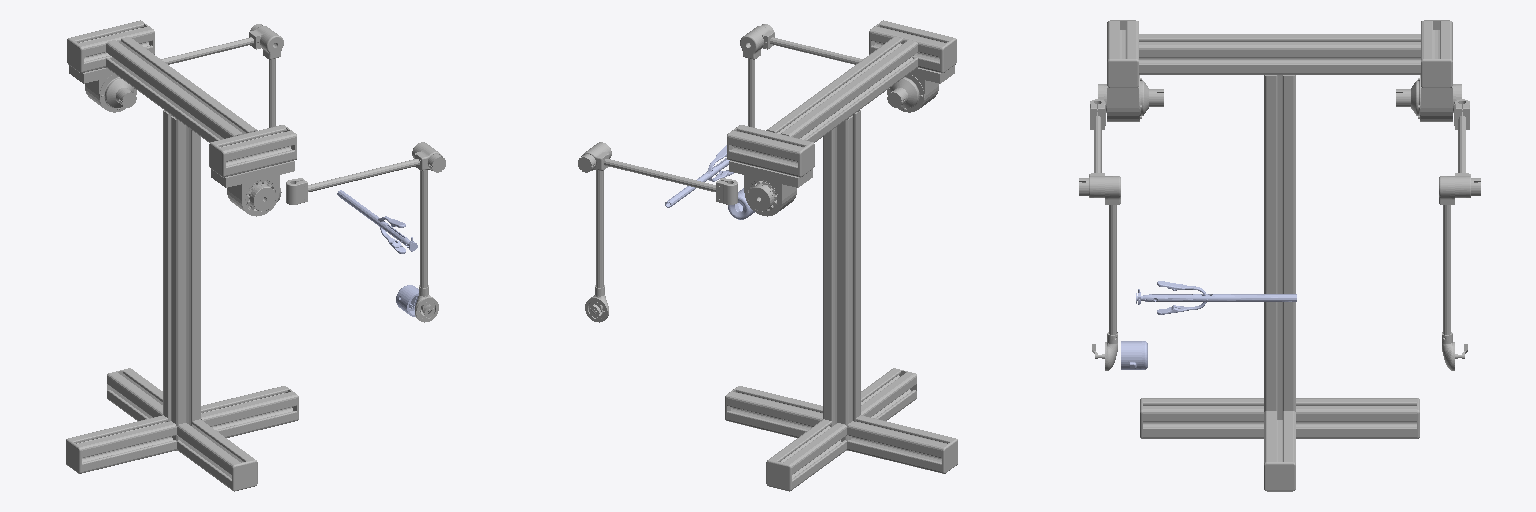
The robot description file, URDF, robot "simple_mtm_v3":
<?xml version="1.0" encoding="utf-8"?>
<!-- This URDF was automatically created by SolidWorks to URDF Exporter! Originally created by Stephen Brawner (brawner@gmail.com) 
     Commit Version: 1.6.0-4-g7f85cfe  Build Version: 1.6.7995.38578
     For more information, please see http://wiki.ros.org/sw_urdf_exporter -->
<robot
  name="simple_mtm_v3">
  <link
    name="base_link">
    <inertial>
      <origin
        xyz="1.88680116792806E-11 -7.89096091530853E-13 0.146649913025819"
        rpy="0 0 0" />
      <mass
        value="1.28910373447466" />
      <inertia
        ixx="0.00787183936947509"
        ixy="-2.38713345596337E-14"
        ixz="-1.5500890991365E-14"
        iyy="0.0062829958134847"
        iyz="-1.08474577856972E-14"
        izz="0.00295338481354163" />
    </inertial>
    <visual>
      <origin
        xyz="0 0 0"
        rpy="0 0 0" />
      <geometry>
        <mesh
          filename="package://simple_mtm_v3/meshes/base_link.STL" />
      </geometry>
      <material
        name="">
        <color
          rgba="0.752941176470588 0.752941176470588 0.752941176470588 1" />
      </material>
    </visual>
    <collision>
      <origin
        xyz="0 0 0"
        rpy="0 0 0" />
      <geometry>
        <mesh
          filename="package://simple_mtm_v3/meshes/base_link.STL" />
      </geometry>
    </collision>
  </link>
  <link
    name="right_J1_link">
    <inertial>
      <origin
        xyz="-0.0272468641090349 -0.00431239962158214 0.0136177788693076"
        rpy="0 0 0" />
      <mass
        value="0.217265269014196" />
      <inertia
        ixx="8.8289658689477E-05"
        ixy="-5.23747831689525E-06"
        ixz="4.84618661160435E-07"
        iyy="9.88337545554211E-05"
        iyz="3.16056040570285E-07"
        izz="0.000161817724585355" />
    </inertial>
    <visual>
      <origin
        xyz="0 0 0"
        rpy="0 0 0" />
      <geometry>
        <mesh
          filename="package://simple_mtm_v3/meshes/right_J1_link.STL" />
      </geometry>
      <material
        name="">
        <color
          rgba="0.752941176470588 0.752941176470588 0.752941176470588 1" />
      </material>
    </visual>
    <collision>
      <origin
        xyz="0 0 0"
        rpy="0 0 0" />
      <geometry>
        <mesh
          filename="package://simple_mtm_v3/meshes/right_J1_link.STL" />
      </geometry>
    </collision>
  </link>
  <joint
    name="right_J1_joint"
    type="fixed">
    <origin
      xyz="0 0.216999999999988 0.284999999999997"
      rpy="-1.57079632679489 0 0" />
    <parent
      link="base_link" />
    <child
      link="right_J1_link" />
    <axis
      xyz="0 0 0" />
  </joint>
  <link
    name="right_J2_link">
    <inertial>
      <origin
        xyz="0.123474393867848 0.0151001355687561 0.0089222337385291"
        rpy="0 0 0" />
      <mass
        value="0.028442603557216" />
      <inertia
        ixx="2.23413747833825E-06"
        ixy="-3.63778375380253E-11"
        ixz="-8.63056316192394E-08"
        iyy="2.11946804960037E-05"
        iyz="1.9508735639919E-13"
        izz="2.18319915210086E-05" />
    </inertial>
    <visual>
      <origin
        xyz="0 0 0"
        rpy="0 0 0" />
      <geometry>
        <mesh
          filename="package://simple_mtm_v3/meshes/right_J2_link.STL" />
      </geometry>
      <material
        name="">
        <color
          rgba="0.752941176470588 0.752941176470588 0.752941176470588 1" />
      </material>
    </visual>
    <collision>
      <origin
        xyz="0 0 0"
        rpy="0 0 0" />
      <geometry>
        <mesh
          filename="package://simple_mtm_v3/meshes/right_J2_link.STL" />
      </geometry>
    </collision>
  </link>
  <joint
    name="right_J2_joint"
    type="fixed">
    <origin
      xyz="0.0349999999999925 0.0150999999999992 0.0200000000000018"
      rpy="3.14159265358979 0 0" />
    <parent
      link="right_J1_link" />
    <child
      link="right_J2_link" />
    <axis
      xyz="0 0 0" />
  </joint>
  <link
    name="right_J3_link">
    <inertial>
      <origin
        xyz="0.169855168689025 -0.00305883869647997 0.000145482432602373"
        rpy="0 0 0" />
      <mass
        value="0.0380698507696803" />
      <inertia
        ixx="3.570151818576E-06"
        ixy="5.77797289697471E-08"
        ixz="-8.33816051763606E-09"
        iyy="2.50590429108496E-05"
        iyz="-4.10119337186332E-09"
        izz="2.32459379325905E-05" />
    </inertial>
    <visual>
      <origin
        xyz="0 0 0"
        rpy="0 0 0" />
      <geometry>
        <mesh
          filename="package://simple_mtm_v3/meshes/right_J3_link.STL" />
      </geometry>
      <material
        name="">
        <color
          rgba="0.752941176470588 0.752941176470588 0.752941176470588 1" />
      </material>
    </visual>
    <collision>
      <origin
        xyz="0 0 0"
        rpy="0 0 0" />
      <geometry>
        <mesh
          filename="package://simple_mtm_v3/meshes/right_J3_link.STL" />
      </geometry>
    </collision>
  </link>
  <joint
    name="right_J3_joint"
    type="fixed">
    <origin
      xyz="0.227499999999998 0.0150999999999999 0.0195"
      rpy="1.5707963267949 0 -1.5707963267949" />
    <parent
      link="right_J2_link" />
    <child
      link="right_J3_link" />
    <axis
      xyz="0 0 0" />
  </joint>
  <link
    name="right_G3_link">
    <inertial>
      <origin
        xyz="-0.000538297476743943 -0.030713766184424 0.0399306243530027"
        rpy="0 0 0" />
      <mass
        value="0.0139115084786958" />
      <inertia
        ixx="2.05714094634586E-06"
        ixy="1.18920754656095E-08"
        ixz="1.26103144141425E-08"
        iyy="3.24885510161296E-06"
        iyz="8.7999754923928E-09"
        izz="2.08516194030023E-06" />
    </inertial>
    <visual>
      <origin
        xyz="0 0 0"
        rpy="0 0 0" />
      <geometry>
        <mesh
          filename="package://simple_mtm_v3/meshes/right_G3_link.STL" />
      </geometry>
      <material
        name="">
        <color
          rgba="0.792156862745098 0.819607843137255 0.933333333333333 1" />
      </material>
    </visual>
    <collision>
      <origin
        xyz="0 0 0"
        rpy="0 0 0" />
      <geometry>
        <mesh
          filename="package://simple_mtm_v3/meshes/right_G3_link.STL" />
      </geometry>
    </collision>
  </link>
  <joint
    name="right_G3_joint"
    type="fixed">
    <origin
      xyz="0.192500000000002 0.00969999999999821 0"
      rpy="0 1.5707963267949 0" />
    <parent
      link="right_J3_link" />
    <child
      link="right_G3_link" />
    <axis
      xyz="0 0 0" />
  </joint>
  <link
    name="right_G2_link">
    <inertial>
      <origin
        xyz="-0.00019356466808218 -0.0340058831715823 0.0387465222468135"
        rpy="0 0 0" />
      <mass
        value="0.000175394578104925" />
      <inertia
        ixx="6.00806245621315E-09"
        ixy="1.19071568960991E-11"
        ixz="-1.77273008759156E-09"
        iyy="7.79464906245331E-09"
        iyz="3.12378910526827E-11"
        izz="2.03310817422897E-09" />
    </inertial>
    <visual>
      <origin
        xyz="0 0 0"
        rpy="0 0 0" />
      <geometry>
        <mesh
          filename="package://simple_mtm_v3/meshes/right_G2_link.STL" />
      </geometry>
      <material
        name="">
        <color
          rgba="0.792156862745098 0.819607843137255 0.933333333333333 1" />
      </material>
    </visual>
    <collision>
      <origin
        xyz="0 0 0"
        rpy="0 0 0" />
      <geometry>
        <mesh
          filename="package://simple_mtm_v3/meshes/right_G2_link.STL" />
      </geometry>
    </collision>
  </link>
  <joint
    name="right_G2_joint"
    type="fixed">
    <origin
      xyz="-0.0139815439024298 0.00129786118054417 0.0772341692003624"
      rpy="-3.14159265358979 0.364174851103282 -3.14159265358979" />
    <parent
      link="right_G3_link" />
    <child
      link="right_G2_link" />
    <axis
      xyz="0 0 0" />
  </joint>
  <link
    name="right_G1_link">
    <inertial>
      <origin
        xyz="0.000186896931372554 -0.119856134439348 0.039744870598827"
        rpy="0 0 0" />
      <mass
        value="0.00625621520567211" />
      <inertia
        ixx="1.27666098425883E-05"
        ixy="-3.81984029962688E-10"
        ixz="1.82290603449966E-09"
        iyy="1.14531246370276E-07"
        iyz="-1.08584454873297E-09"
        izz="1.27722041084183E-05" />
    </inertial>
    <visual>
      <origin
        xyz="0 0 0"
        rpy="0 0 0" />
      <geometry>
        <mesh
          filename="package://simple_mtm_v3/meshes/right_G1_link.STL" />
      </geometry>
      <material
        name="">
        <color
          rgba="0.792156862745098 0.819607843137255 0.933333333333333 1" />
      </material>
    </visual>
    <collision>
      <origin
        xyz="0 0 0"
        rpy="0 0 0" />
      <geometry>
        <mesh
          filename="package://simple_mtm_v3/meshes/right_G1_link.STL" />
      </geometry>
    </collision>
  </link>
  <joint
    name="right_G1_joint"
    type="fixed">
    <origin
      xyz="0 0 0"
      rpy="0 0 0" />
    <parent
      link="right_G2_link" />
    <child
      link="right_G1_link" />
    <axis
      xyz="0 0 0" />
  </joint>
  <link
    name="right_lever_1_link">
    <inertial>
      <origin
        xyz="0.00510793204640436 -0.0889448697520049 0.0529085641186344"
        rpy="0 0 0" />
      <mass
        value="0.00204075410055683" />
      <inertia
        ixx="7.29183513257811E-07"
        ixy="-6.03030693249689E-08"
        ixz="-1.1942010127566E-08"
        iyy="6.47741906382207E-08"
        iyz="-1.39761556747307E-07"
        izz="7.10623137553873E-07" />
    </inertial>
    <visual>
      <origin
        xyz="0 0 0"
        rpy="0 0 0" />
      <geometry>
        <mesh
          filename="package://simple_mtm_v3/meshes/right_lever_1_link.STL" />
      </geometry>
      <material
        name="">
        <color
          rgba="0.792156862745098 0.819607843137255 0.933333333333333 1" />
      </material>
    </visual>
    <collision>
      <origin
        xyz="0 0 0"
        rpy="0 0 0" />
      <geometry>
        <mesh
          filename="package://simple_mtm_v3/meshes/right_lever_1_link.STL" />
      </geometry>
    </collision>
  </link>
  <joint
    name="right_lever_1_joint"
    type="fixed">
    <origin
      xyz="-0.000578106027015302 0.00496024892621399 0.0771324048250518"
      rpy="-3.12182427052133 -7.44784606204923E-05 -3.13405782561958" />
    <parent
      link="right_G1_link" />
    <child
      link="right_lever_1_link" />
    <axis
      xyz="0 0 0" />
  </joint>
  <link
    name="right_lever_2_link">
    <inertial>
      <origin
        xyz="0.00510793196677847 -0.088944870622309 0.052908563971167"
        rpy="0 0 0" />
      <mass
        value="0.00204075409888524" />
      <inertia
        ixx="7.29183560316002E-07"
        ixy="-6.03030754022077E-08"
        ixz="-1.19420115548806E-08"
        iyy="6.47741938415799E-08"
        iyz="-1.39761574634617E-07"
        izz="7.10623180129391E-07" />
    </inertial>
    <visual>
      <origin
        xyz="0 0 0"
        rpy="0 0 0" />
      <geometry>
        <mesh
          filename="package://simple_mtm_v3/meshes/right_lever_2_link.STL" />
      </geometry>
      <material
        name="">
        <color
          rgba="0.792156862745098 0.819607843137255 0.933333333333333 1" />
      </material>
    </visual>
    <collision>
      <origin
        xyz="0 0 0"
        rpy="0 0 0" />
      <geometry>
        <mesh
          filename="package://simple_mtm_v3/meshes/right_lever_2_link.STL" />
      </geometry>
    </collision>
  </link>
  <joint
    name="right_lever_2_joint"
    type="fixed">
    <origin
      xyz="0.00036791989843285 0.00447042270834766 0.000824842222483302"
      rpy="0.00686960114312612 0 -0.00261851443835586" />
    <parent
      link="right_G1_link" />
    <child
      link="right_lever_2_link" />
    <axis
      xyz="0 0 0" />
  </joint>
  <link
    name="left_J1_link">
    <inertial>
      <origin
        xyz="-0.0272470463672841 -0.00431247084058722 -0.0136176603624838"
        rpy="0 0 0" />
      <mass
        value="0.217267757216331" />
      <inertia
        ixx="8.82896141323449E-05"
        ixy="-5.23762437385712E-06"
        ixz="-4.84574615247581E-07"
        iyy="9.88338956696862E-05"
        iyz="-3.16059095109483E-07"
        izz="0.000161817830134084" />
    </inertial>
    <visual>
      <origin
        xyz="0 0 0"
        rpy="0 0 0" />
      <geometry>
        <mesh
          filename="package://simple_mtm_v3/meshes/left_J1_link.STL" />
      </geometry>
      <material
        name="">
        <color
          rgba="0.752941176470588 0.752941176470588 0.752941176470588 1" />
      </material>
    </visual>
    <collision>
      <origin
        xyz="0 0 0"
        rpy="0 0 0" />
      <geometry>
        <mesh
          filename="package://simple_mtm_v3/meshes/left_J1_link.STL" />
      </geometry>
    </collision>
  </link>
  <joint
    name="left_J1_joint"
    type="fixed">
    <origin
      xyz="0 -0.216999999999989 0.284999999999993"
      rpy="-1.57079632679489 0 0" />
    <parent
      link="base_link" />
    <child
      link="left_J1_link" />
    <axis
      xyz="0 0 0" />
  </joint>
  <link
    name="left_J2_link">
    <inertial>
      <origin
        xyz="0.123474376253567 0.0151001317387138 -0.00892223154220478"
        rpy="0 0 0" />
      <mass
        value="0.028442627260003" />
      <inertia
        ixx="2.23414031770246E-06"
        ixy="-3.46546052577261E-11"
        ixz="8.63065996445561E-08"
        iyy="2.11946848479022E-05"
        iyz="2.86654440924258E-13"
        izz="2.1831996008116E-05" />
    </inertial>
    <visual>
      <origin
        xyz="0 0 0"
        rpy="0 0 0" />
      <geometry>
        <mesh
          filename="package://simple_mtm_v3/meshes/left_J2_link.STL" />
      </geometry>
      <material
        name="">
        <color
          rgba="0.752941176470588 0.752941176470588 0.752941176470588 1" />
      </material>
    </visual>
    <collision>
      <origin
        xyz="0 0 0"
        rpy="0 0 0" />
      <geometry>
        <mesh
          filename="package://simple_mtm_v3/meshes/left_J2_link.STL" />
      </geometry>
    </collision>
  </link>
  <joint
    name="left_J2_joint"
    type="fixed">
    <origin
      xyz="0.034999999999992 0.0150999999999917 -0.0200000000000006"
      rpy="3.14159265358979 0 0" />
    <parent
      link="left_J1_link" />
    <child
      link="left_J2_link" />
    <axis
      xyz="0 0 0" />
  </joint>
  <link
    name="left_J3_link">
    <inertial>
      <origin
        xyz="0.169856201015062 -0.0030586607501043 -0.000145661945585074"
        rpy="0 0 0" />
      <mass
        value="0.0380704888847409" />
      <inertia
        ixx="3.57026925240988E-06"
        ixy="5.77847391819965E-08"
        ixz="8.42363592973487E-09"
        iyy="2.50591350261033E-05"
        iyz="4.12436620976937E-09"
        izz="2.32459225235906E-05" />
    </inertial>
    <visual>
      <origin
        xyz="0 0 0"
        rpy="0 0 0" />
      <geometry>
        <mesh
          filename="package://simple_mtm_v3/meshes/left_J3_link.STL" />
      </geometry>
      <material
        name="">
        <color
          rgba="0.752941176470588 0.752941176470588 0.752941176470588 1" />
      </material>
    </visual>
    <collision>
      <origin
        xyz="0 0 0"
        rpy="0 0 0" />
      <geometry>
        <mesh
          filename="package://simple_mtm_v3/meshes/left_J3_link.STL" />
      </geometry>
    </collision>
  </link>
  <joint
    name="left_J3_joint"
    type="fixed">
    <origin
      xyz="0.227499999999999 0.0151000000000003 -0.0195000000000037"
      rpy="-1.5707963267949 0 -1.5707963267949" />
    <parent
      link="left_J2_link" />
    <child
      link="left_J3_link" />
    <axis
      xyz="0 0 0" />
  </joint>
  <link
    name="left_G3_link">
    <inertial>
      <origin
        xyz="0.000909567432228087 -0.0307137385033584 -0.0399306126980352"
        rpy="0 0 0" />
      <mass
        value="0.0139115581308515" />
      <inertia
        ixx="2.0571424836655E-06"
        ixy="1.18930289816947E-08"
        ixz="-1.26106426039852E-08"
        iyy="3.24886466948477E-06"
        iyz="-8.80030254005792E-09"
        izz="2.08517245630163E-06" />
    </inertial>
    <visual>
      <origin
        xyz="0 0 0"
        rpy="0 0 0" />
      <geometry>
        <mesh
          filename="package://simple_mtm_v3/meshes/left_G3_link.STL" />
      </geometry>
      <material
        name="">
        <color
          rgba="0.792156862745098 0.819607843137255 0.933333333333333 1" />
      </material>
    </visual>
    <collision>
      <origin
        xyz="0 0 0"
        rpy="0 0 0" />
      <geometry>
        <mesh
          filename="package://simple_mtm_v3/meshes/left_G3_link.STL" />
      </geometry>
    </collision>
  </link>
  <joint
    name="left_G3_joint"
    type="fixed">
    <origin
      xyz="0.192500000000002 0.00969999999999449 -0.00144781733221183"
      rpy="3.14159265358979 -1.5707963267949 0" />
    <parent
      link="left_J3_link" />
    <child
      link="left_G3_link" />
    <axis
      xyz="0 0 0" />
  </joint>
  <link
    name="left_G2_link">
    <inertial>
      <origin
        xyz="-0.000193564668083596 -0.0340058831715875 -0.0387465222468096"
        rpy="0 0 0" />
      <mass
        value="0.000175394578104925" />
      <inertia
        ixx="6.00806245621315E-09"
        ixy="1.19071568960995E-11"
        ixz="1.77273008759155E-09"
        iyy="7.79464906245331E-09"
        iyz="-3.12378910526842E-11"
        izz="2.03310817422896E-09" />
    </inertial>
    <visual>
      <origin
        xyz="0 0 0"
        rpy="0 0 0" />
      <geometry>
        <mesh
          filename="package://simple_mtm_v3/meshes/left_G2_link.STL" />
      </geometry>
      <material
        name="">
        <color
          rgba="0.792156862745098 0.819607843137255 0.933333333333333 1" />
      </material>
    </visual>
    <collision>
      <origin
        xyz="0 0 0"
        rpy="0 0 0" />
      <geometry>
        <mesh
          filename="package://simple_mtm_v3/meshes/left_G2_link.STL" />
      </geometry>
    </collision>
  </link>
  <joint
    name="left_G2_joint"
    type="fixed">
    <origin
      xyz="-0.0125337265702119 0.00129786118054964 -0.0772341692003637"
      rpy="3.14159265358979 -0.364174851103282 -3.14159265358979" />
    <parent
      link="left_G3_link" />
    <child
      link="left_G2_link" />
    <axis
      xyz="0 0 0" />
  </joint>
  <link
    name="left_G1_link">
    <inertial>
      <origin
        xyz="0.000186811130665682 -0.119857377561459 -0.0397449189324022"
        rpy="0 0 0" />
      <mass
        value="0.00625662154187374" />
      <inertia
        ixx="1.27674052324291E-05"
        ixy="-3.7654953295786E-10"
        ixz="-1.82353664076048E-09"
        iyy="1.14536197943222E-07"
        iyz="1.0920974447754E-09"
        izz="1.27729976151306E-05" />
    </inertial>
    <visual>
      <origin
        xyz="0 0 0"
        rpy="0 0 0" />
      <geometry>
        <mesh
          filename="package://simple_mtm_v3/meshes/left_G1_link.STL" />
      </geometry>
      <material
        name="">
        <color
          rgba="0.792156862745098 0.819607843137255 0.933333333333333 1" />
      </material>
    </visual>
    <collision>
      <origin
        xyz="0 0 0"
        rpy="0 0 0" />
      <geometry>
        <mesh
          filename="package://simple_mtm_v3/meshes/left_G1_link.STL" />
      </geometry>
    </collision>
  </link>
  <joint
    name="left_G1_joint"
    type="fixed">
    <origin
      xyz="0 0 0"
      rpy="0 0 0" />
    <parent
      link="left_G2_link" />
    <child
      link="left_G1_link" />
    <axis
      xyz="0 0 0" />
  </joint>
  <link
    name="left_lever_1_link">
    <inertial>
      <origin
        xyz="0.00510794766504316 -0.0889447403661791 -0.0529085748864607"
        rpy="0 0 0" />
      <mass
        value="0.00204075787543212" />
      <inertia
        ixx="7.29170399820856E-07"
        ixy="-6.03021627649103E-08"
        ixz="1.19420450260695E-08"
        iyy="6.47742627313314E-08"
        iyz="1.397606252607E-07"
        izz="7.10610279610231E-07" />
    </inertial>
    <visual>
      <origin
        xyz="0 0 0"
        rpy="0 0 0" />
      <geometry>
        <mesh
          filename="package://simple_mtm_v3/meshes/left_lever_1_link.STL" />
      </geometry>
      <material
        name="">
        <color
          rgba="0.792156862745098 0.819607843137255 0.933333333333333 1" />
      </material>
    </visual>
    <collision>
      <origin
        xyz="0 0 0"
        rpy="0 0 0" />
      <geometry>
        <mesh
          filename="package://simple_mtm_v3/meshes/left_lever_1_link.STL" />
      </geometry>
    </collision>
  </link>
  <joint
    name="left_lever_1_joint"
    type="fixed">
    <origin
      xyz="-0.000578106027015551 0.0049602489262156 -0.0771324048250512"
      rpy="3.12182427052133 7.44784606204923E-05 -3.13405782561958" />
    <parent
      link="left_G1_link" />
    <child
      link="left_lever_1_link" />
    <axis
      xyz="0 0 0" />
  </joint>
  <link
    name="left_lever_2_link">
    <inertial>
      <origin
        xyz="0.00510794761732353 -0.0889447409323631 -0.0529085750175793"
        rpy="0 0 0" />
      <mass
        value="0.00204075785236801" />
      <inertia
        ixx="7.29170418880374E-07"
        ixy="-6.03021660374515E-08"
        ixz="1.19420451612106E-08"
        iyy="6.47742592125221E-08"
        iyz="1.3976062634961E-07"
        izz="7.10610300175445E-07" />
    </inertial>
    <visual>
      <origin
        xyz="0 0 0"
        rpy="0 0 0" />
      <geometry>
        <mesh
          filename="package://simple_mtm_v3/meshes/left_lever_2_link.STL" />
      </geometry>
      <material
        name="">
        <color
          rgba="0.792156862745098 0.819607843137255 0.933333333333333 1" />
      </material>
    </visual>
    <collision>
      <origin
        xyz="0 0 0"
        rpy="0 0 0" />
      <geometry>
        <mesh
          filename="package://simple_mtm_v3/meshes/left_lever_2_link.STL" />
      </geometry>
    </collision>
  </link>
  <joint
    name="left_lever_2_joint"
    type="fixed">
    <origin
      xyz="0.000367919898432378 0.00447042270834289 -0.000824842222482025"
      rpy="-0.00686960114312612 0 -0.00261851443835586" />
    <parent
      link="left_G1_link" />
    <child
      link="left_lever_2_link" />
    <axis
      xyz="0 0 0" />
  </joint>
</robot>

--- Render facts (derived) ---
Views: 3 orthographic renders of the robot side by side, from view 1: azimuth 30°, elevation 25°; view 2: azimuth 150°, elevation 25°; view 3: azimuth 270°, elevation 25°.
Model simple_mtm_v3 with 17 links and 16 joints (16 fixed), rooted at base_link, posed every joint at zero.
Links seen in each view (by area): view 1: base_link, left_J2_link, left_J3_link, right_J3_link, right_J2_link, left_G1_link; view 2: base_link, right_J2_link, right_J3_link, left_J3_link, left_J2_link; view 3: base_link, right_J3_link, left_J3_link, right_J2_link, left_J2_link, left_G1_link, left_G3_link.
Link boxes in pixels (bbox=[...]): base_link: bbox=[66, 20, 298, 491]; left_J2_link: bbox=[286, 147, 445, 204]; left_J3_link: bbox=[412, 142, 438, 322]; right_J3_link: bbox=[260, 31, 283, 201]; right_J2_link: bbox=[161, 24, 271, 64]; left_G1_link: bbox=[337, 190, 417, 250]; base_link: bbox=[725, 20, 957, 491]; right_J2_link: bbox=[578, 147, 737, 204]; right_J3_link: bbox=[585, 142, 611, 322]; left_J3_link: bbox=[740, 31, 763, 127]; left_J2_link: bbox=[752, 24, 862, 64]; base_link: bbox=[1098, 20, 1461, 491]; right_J3_link: bbox=[1439, 176, 1467, 370]; left_J3_link: bbox=[1092, 176, 1120, 370]; right_J2_link: bbox=[1454, 99, 1480, 197]; left_J2_link: bbox=[1079, 99, 1105, 197]; left_G1_link: bbox=[1136, 293, 1296, 303]; left_G3_link: bbox=[1121, 341, 1147, 369].
Bounding box of the posed robot: 0.4545 × 0.4992 × 0.54 m (x, y, z).
Meshes: 17 distinct files referenced, 10 mesh visuals loaded (10 binary STL); not drawn: 7 (reference not matched to a file when rendering).
